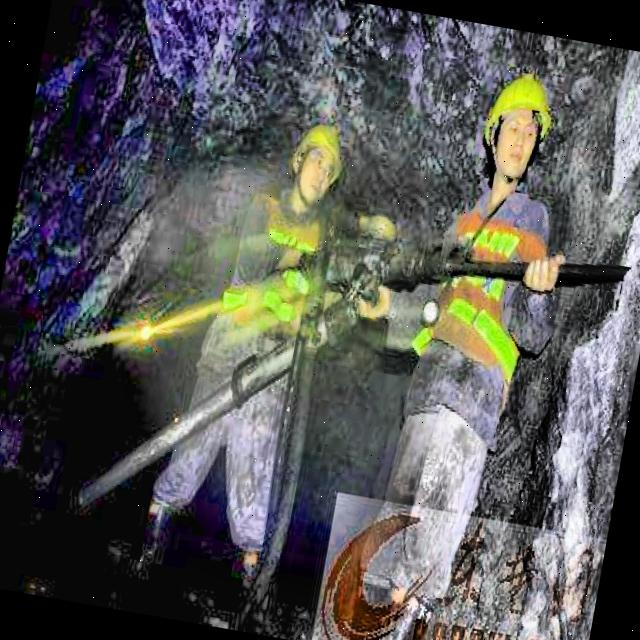helmet: (470, 56, 562, 196), (283, 112, 353, 213)
